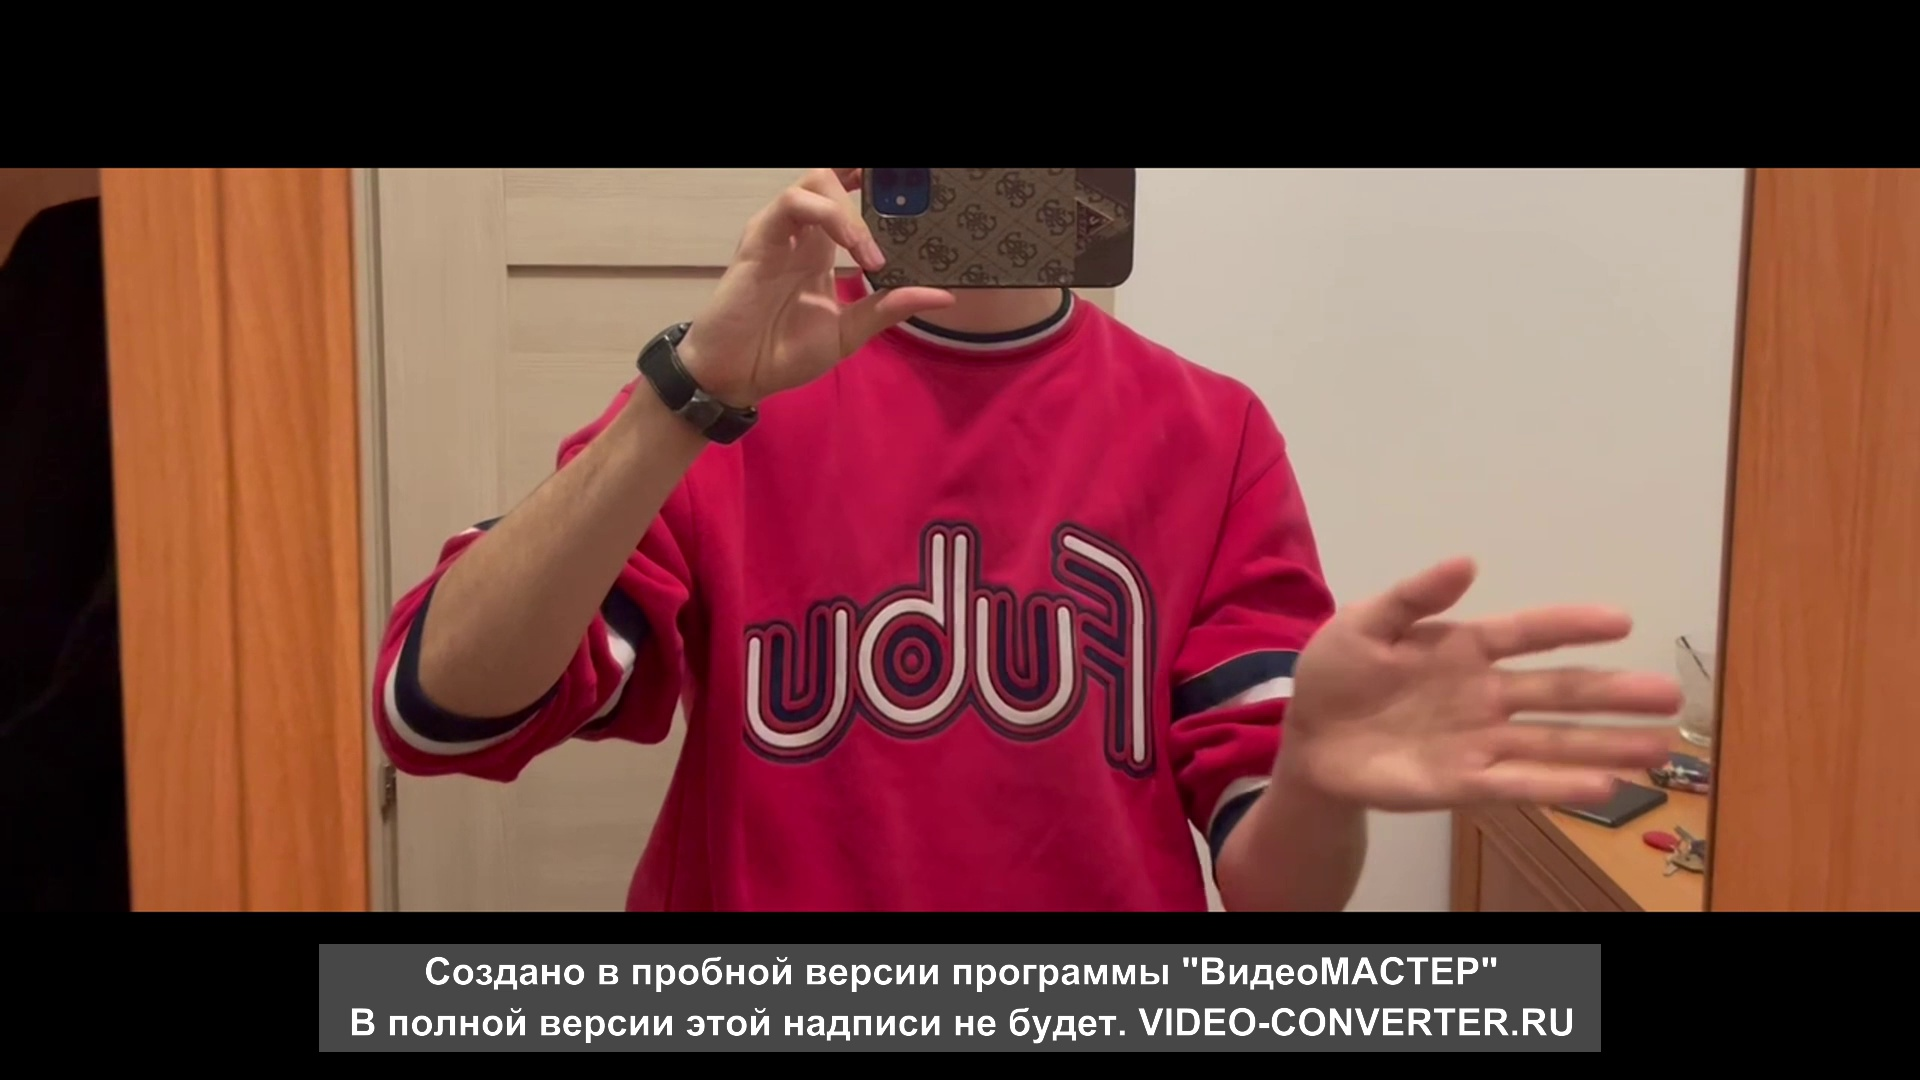Ладонь: (1295, 554, 1683, 811)
